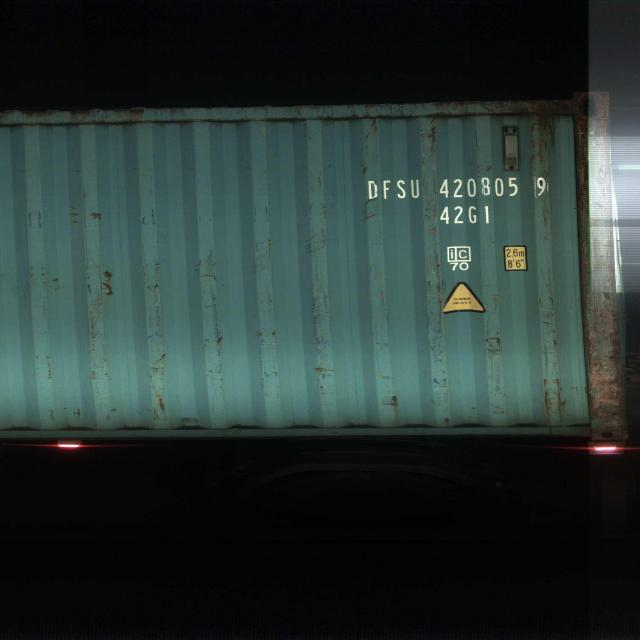rust: (582, 94, 627, 422)
